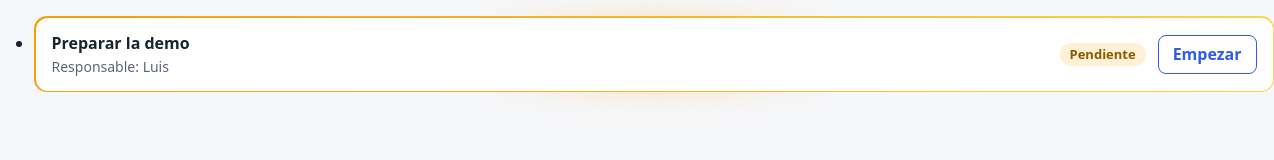
Test case: TaskItem › si el cambio falla, el error aparece en ESA tarea y el botón vuelve a estar disponible
Click the button "Empezar": {"x": 1207, "y": 54} [1158,35,1256,74]
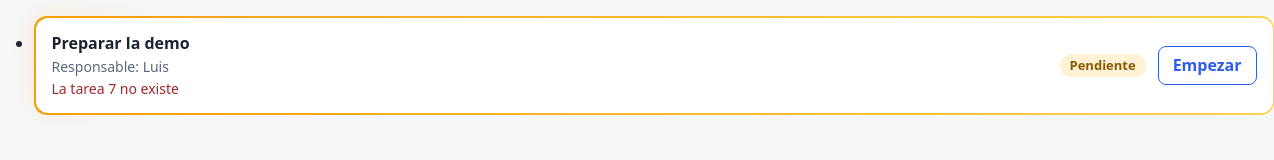
Expected: the button "Empezar" is enabled, [1158,46,1256,85]
Now the message reads "La tarea 7 no existe", box [52,79,179,98]
